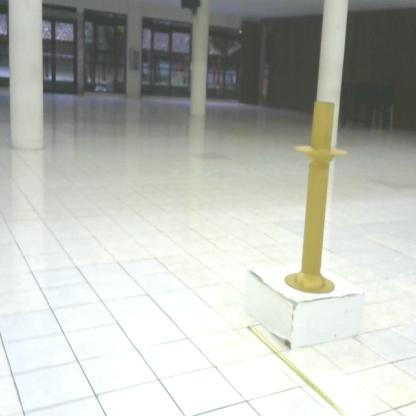pole: (284, 99, 352, 303)
